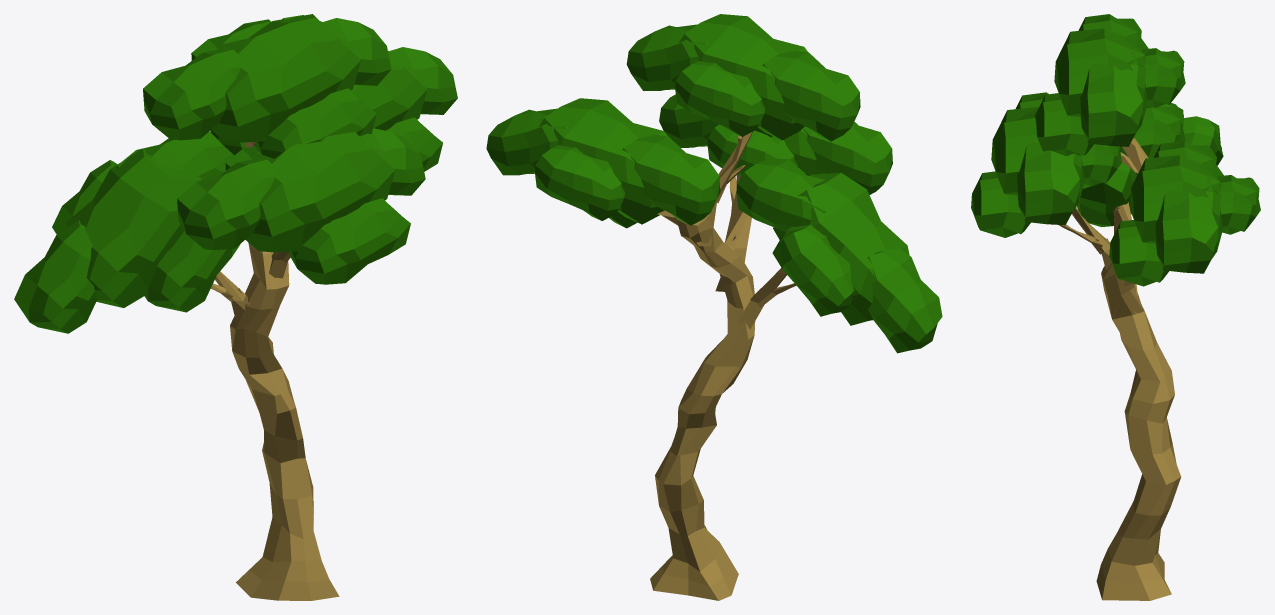
File: normal tree 1.fbx
The picture shows the model from 3 angles, left to right: view 1: azimuth 30°, elevation 25°; view 2: azimuth 150°, elevation 25°; view 3: azimuth 270°, elevation 25°; orthographic projection. The views are drawn at different scales.
Parts seen in each view (by area): view 1: Cube.029; view 2: Cube.029; view 3: Cube.029.
Part boxes in pixels (x1,y1,x2,y2): Cube.029: [14, 14, 457, 600]; Cube.029: [486, 14, 942, 600]; Cube.029: [971, 14, 1260, 600].
Size of the model in its own units: 661 by 835 by 407.
